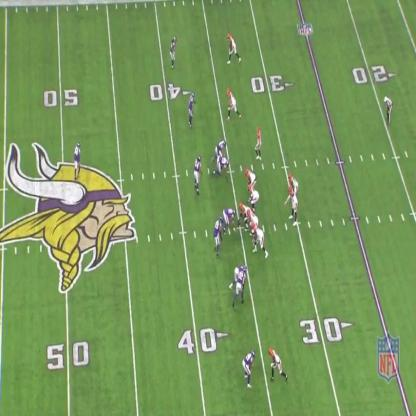CENTER: (237, 203, 250, 229)
DB: (234, 264, 249, 307), (242, 348, 254, 384), (74, 141, 80, 179), (171, 36, 178, 68)
LB: (193, 157, 203, 194), (214, 218, 224, 254), (187, 91, 196, 126)
QB: (286, 187, 301, 225)
SKILL: (267, 346, 289, 379), (226, 88, 242, 121), (227, 33, 241, 65), (253, 126, 263, 156), (289, 172, 298, 192)
